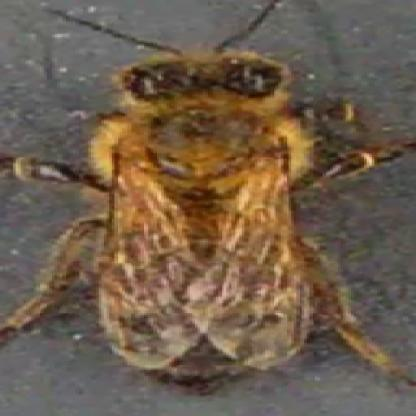bee: (65, 42, 359, 372)
